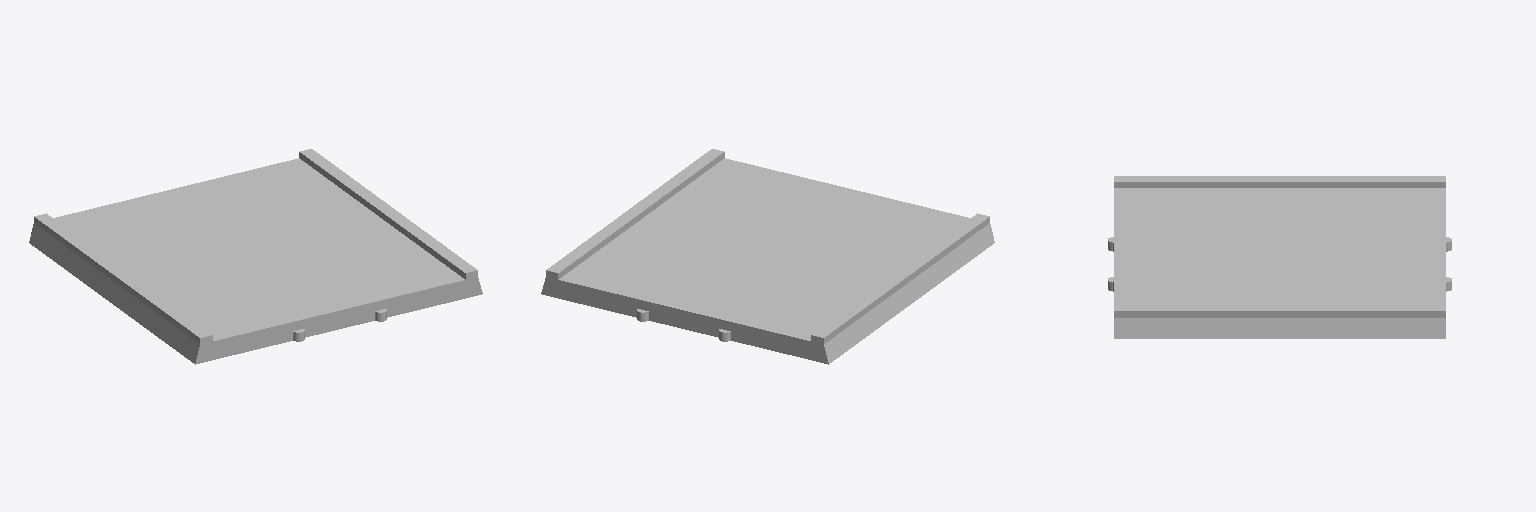
The model's file is Large_base_Collider.obj.
The picture shows the model from 3 angles: view 1: azimuth 30°, elevation 25°; view 2: azimuth 150°, elevation 25°; view 3: azimuth 270°, elevation 25°; orthographic projection.
Visible parts, largest first — view 1: Mesh2_Group1_Model; view 2: Mesh2_Group1_Model; view 3: Mesh2_Group1_Model.
Part boxes in pixels (left/top/right/bottom): Mesh2_Group1_Model: left=29, top=149, right=482, bottom=364; Mesh2_Group1_Model: left=541, top=149, right=994, bottom=364; Mesh2_Group1_Model: left=1108, top=176, right=1451, bottom=338.
Bounding box in the file's own units: 4.66 × 0.3905 × 4.83.